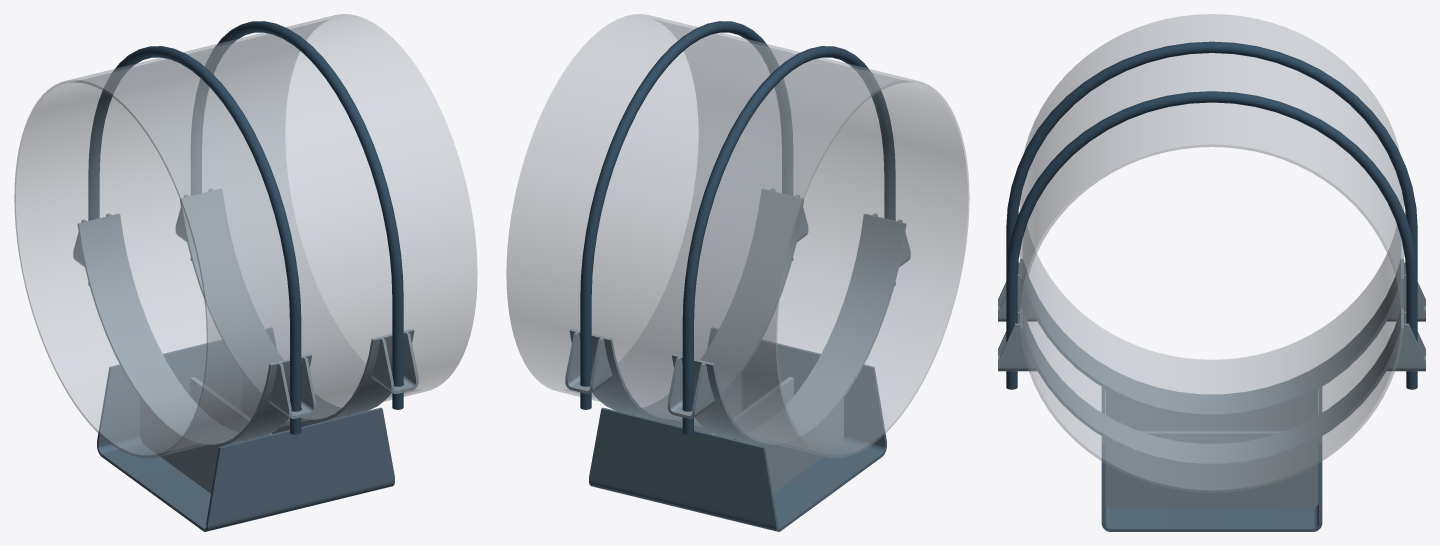
The model's file is TS-626.00.000-122-opora-dn1220-H200-L680.glb.
3 views of the same model, side by side, from view 1: azimuth 30°, elevation 25°; view 2: azimuth 150°, elevation 25°; view 3: azimuth 270°, elevation 25° (orthographic).
Parts seen in each view (by area): view 1: truba, skoba_0, podushka_5, podushka_6, homut_0, homut_1, rebro4_1, ushko_10, ushko_8, rebro5_4, rebro4_2; view 2: truba, skoba_0, podushka_5, podushka_6, homut_0, homut_1, rebro4_1, ushko_9, ushko_7, rebro5_4, rebro4_2; view 3: truba, rebro4_2, podushka_6, podushka_5, homut_1, homut_0, skoba_0, rebro4_1, ushko_9, ushko_10, rebro5_3, ushko_7 (+1 smaller).
Boxes of the visible parts, x1=… form: truba: x1=14, y1=14, x2=477, y2=458; skoba_0: x1=97, y1=328, x2=394, y2=531; podushka_5: x1=77, y1=213, x2=312, y2=447; podushka_6: x1=180, y1=189, x2=414, y2=422; homut_0: x1=88, y1=46, x2=301, y2=434; homut_1: x1=190, y1=21, x2=403, y2=409; rebro4_1: x1=140, y1=398, x2=249, y2=493; ushko_10: x1=371, y1=332, x2=418, y2=393; ushko_8: x1=269, y1=356, x2=316, y2=418; rebro5_4: x1=190, y1=377, x2=269, y2=435; rebro4_2: x1=242, y1=374, x2=351, y2=433; truba: x1=506, y1=14, x2=969, y2=458; skoba_0: x1=589, y1=328, x2=886, y2=531; podushka_5: x1=671, y1=213, x2=906, y2=447; podushka_6: x1=569, y1=189, x2=803, y2=422; homut_0: x1=682, y1=46, x2=895, y2=434; homut_1: x1=580, y1=21, x2=793, y2=409; rebro4_1: x1=734, y1=398, x2=843, y2=493; ushko_9: x1=565, y1=332, x2=612, y2=393; ushko_7: x1=667, y1=356, x2=714, y2=418; rebro5_4: x1=714, y1=377, x2=793, y2=435; rebro4_2: x1=632, y1=374, x2=741, y2=433; truba: x1=1019, y1=14, x2=1404, y2=492; rebro4_2: x1=1105, y1=438, x2=1318, y2=509; podushka_6: x1=1020, y1=308, x2=1403, y2=466; podushka_5: x1=1020, y1=259, x2=1403, y2=416; homut_1: x1=1006, y1=91, x2=1417, y2=389; homut_0: x1=1006, y1=41, x2=1417, y2=273; skoba_0: x1=1101, y1=387, x2=1322, y2=531; rebro4_1: x1=1105, y1=389, x2=1318, y2=431; ushko_9: x1=1387, y1=311, x2=1425, y2=371; ushko_10: x1=998, y1=311, x2=1036, y2=371; rebro5_3: x1=1144, y1=432, x2=1279, y2=443; ushko_7: x1=1387, y1=262, x2=1425, y2=321.
Bounding box in the file's own units: 980 × 1470 × 1358.
